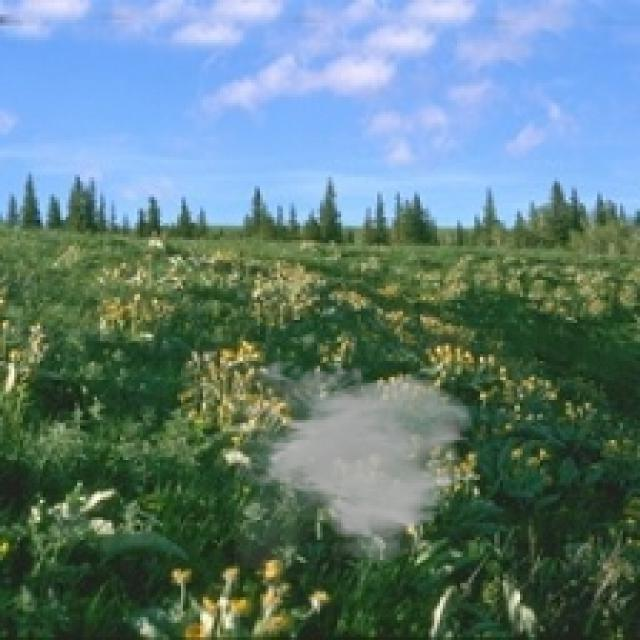Smoke: (234, 352, 477, 568)
